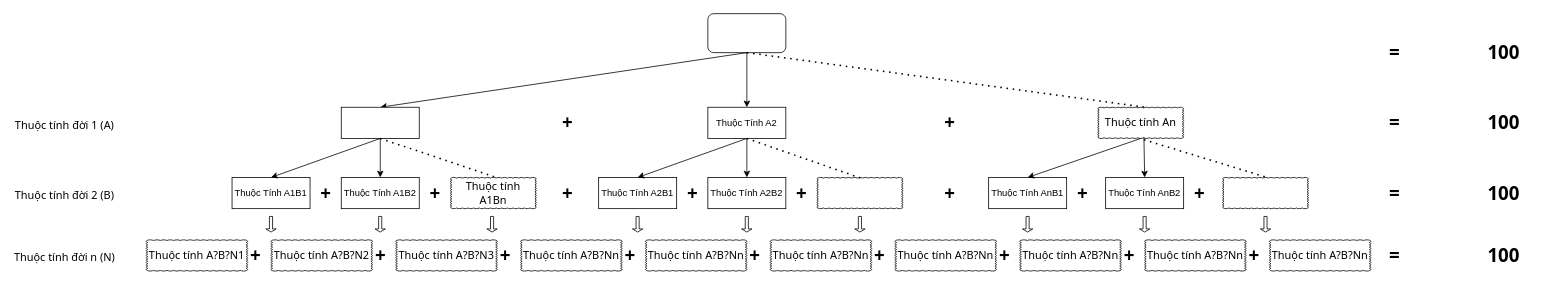
Image size: 1555x285. Some labels were removed from this diagram. Each missing label, with the centre of its shape:
"Sản phẩm" goes at pixel 746 33.
"Thuộc Tính A1" goes at pixel 379 122.
"Thuộc tính A2Bn" goes at pixel 859 193.
"Thuộc tính AnBn" goes at pixel 1265 193.
